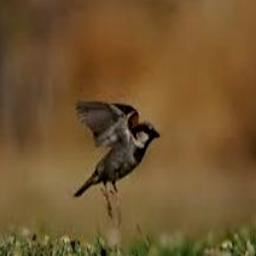Sparrow: (72, 101, 159, 226)
